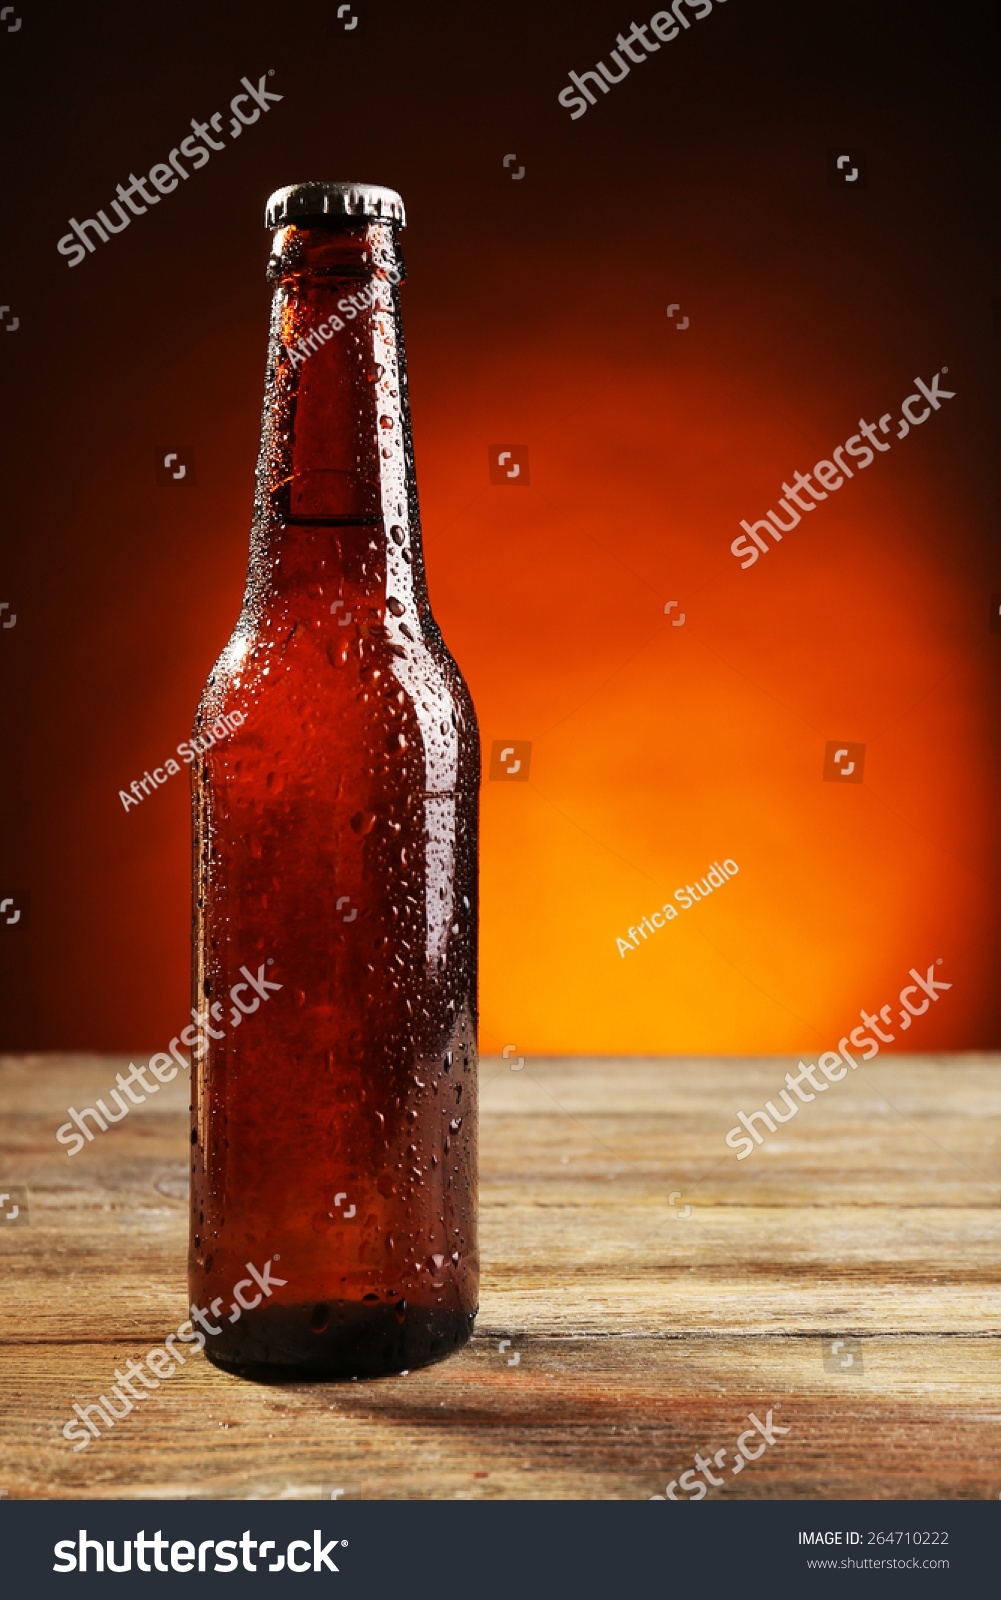beerBottle: (204, 197, 480, 1368)
